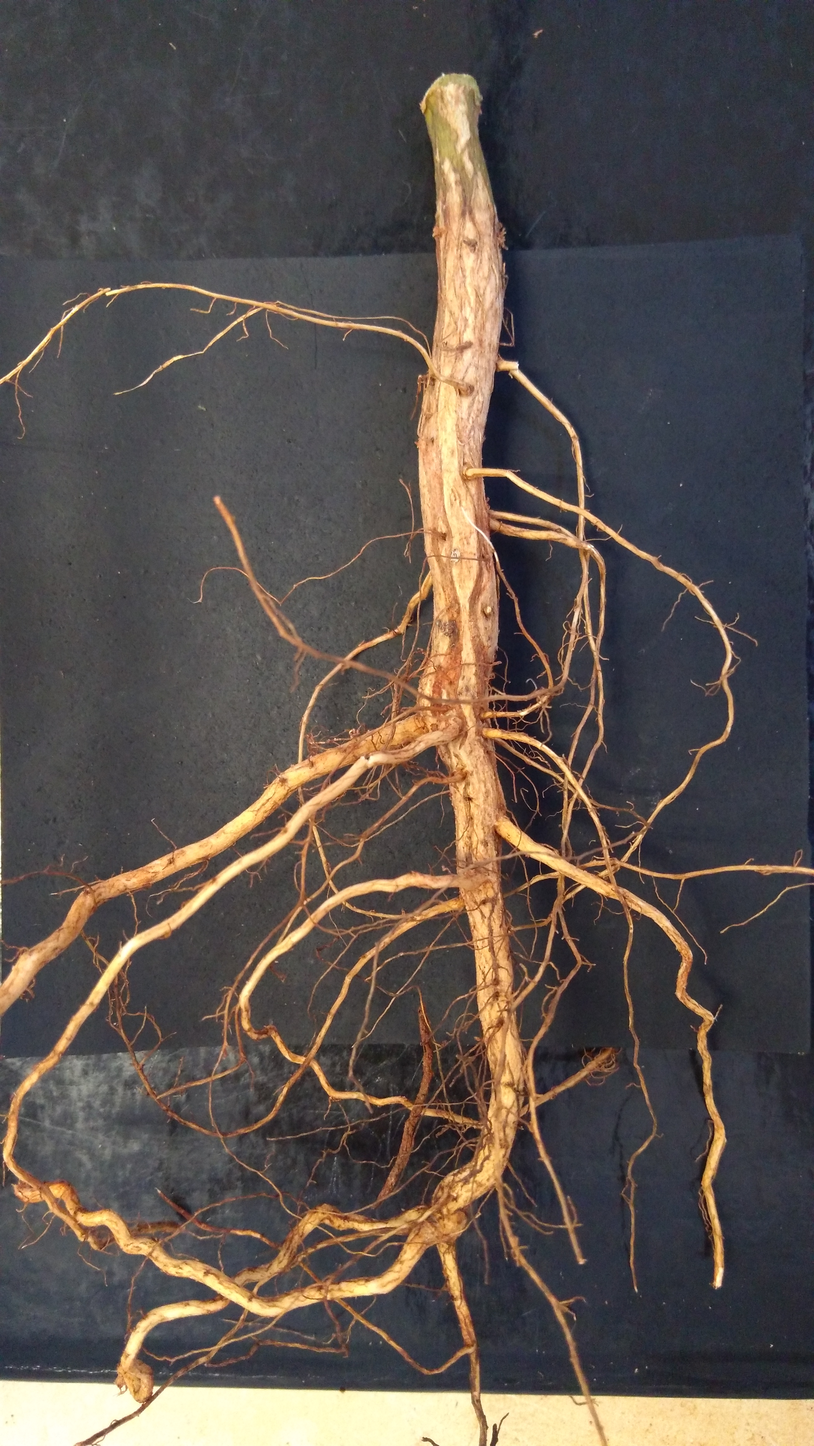nodule: (122, 1359, 154, 1403), (444, 1210, 467, 1241), (536, 686, 553, 705), (416, 373, 434, 386), (432, 225, 441, 238), (483, 604, 493, 615), (348, 728, 357, 740), (473, 1036, 481, 1042), (325, 738, 331, 744), (498, 222, 503, 229), (306, 734, 309, 738), (333, 737, 336, 741), (367, 729, 370, 732)
